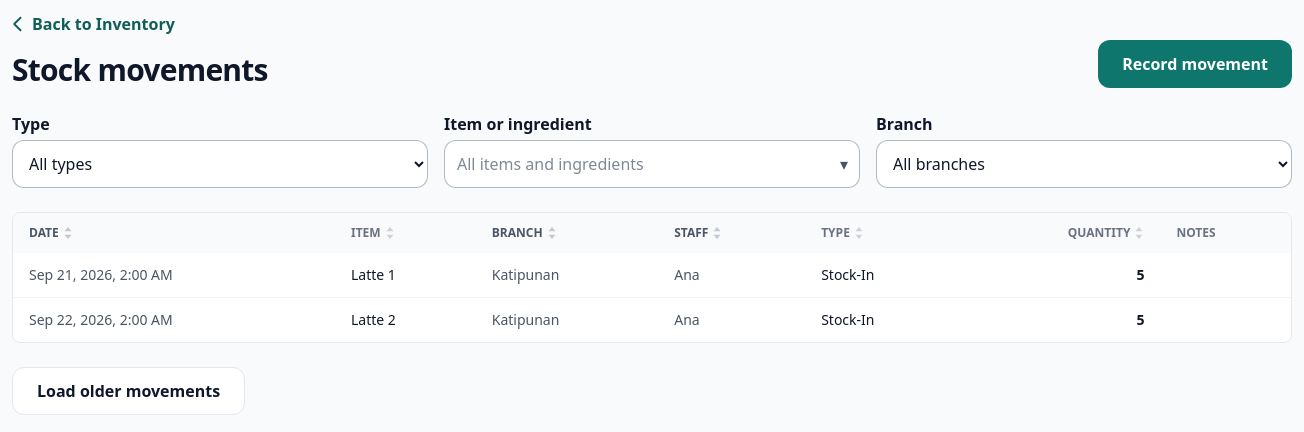
Test: MovementLogPage › pages older movements with the last row as the cursor
Click the button "Load older movements". click: (129,391)
box: [12,367,245,415]
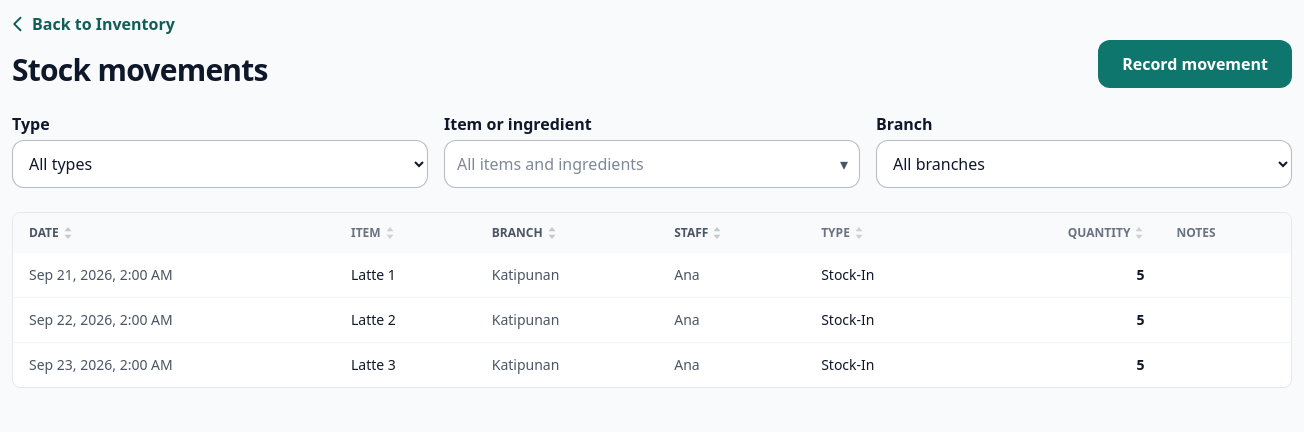
Expected: the text "Latte 3" is shown, [351,355,396,374]
Expected: the button "Load older movements" is gone
